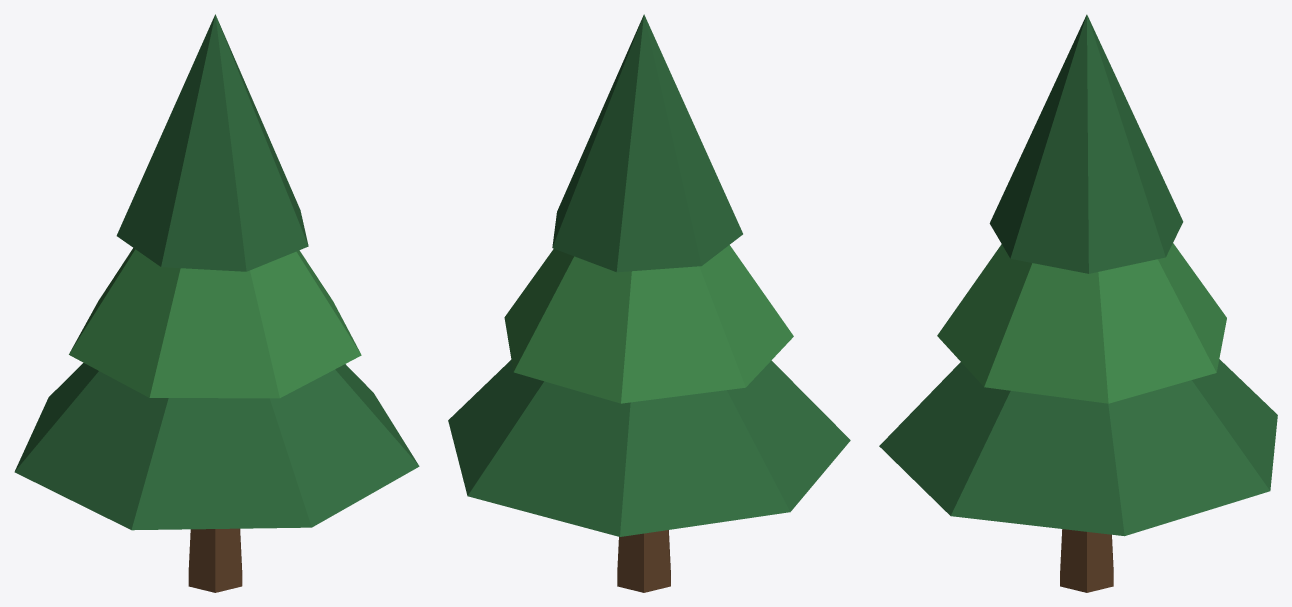
Rendered from pine-c.glb.
The picture shows the model from 3 angles, left to right: view 1: azimuth 30°, elevation 25°; view 2: azimuth 150°, elevation 25°; view 3: azimuth 270°, elevation 25°; orthographic projection.
Parts seen in each view (by area): view 1: tree; view 2: tree; view 3: tree.
Boxes of the visible parts, x1,y1,x2,y2 form: tree: [14, 14, 419, 592]; tree: [448, 14, 850, 592]; tree: [879, 14, 1277, 592].
Bounding box in the file's own units: 4.18 × 6.44 × 4.11.
